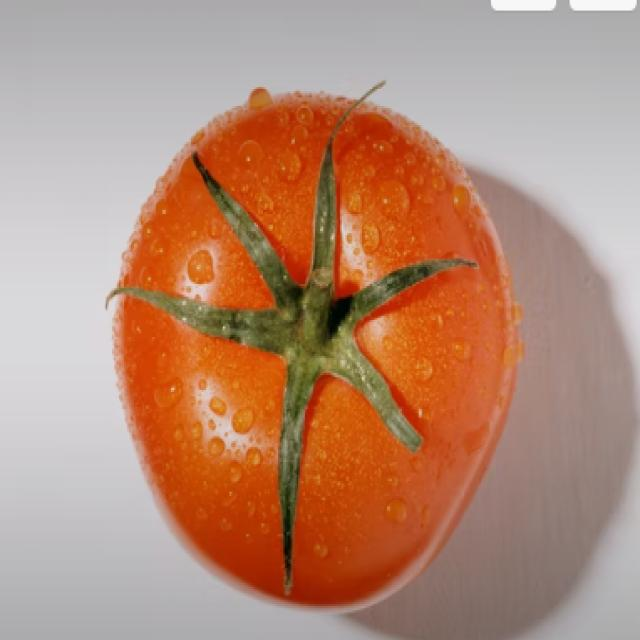Tomato: (97, 96, 522, 625)
